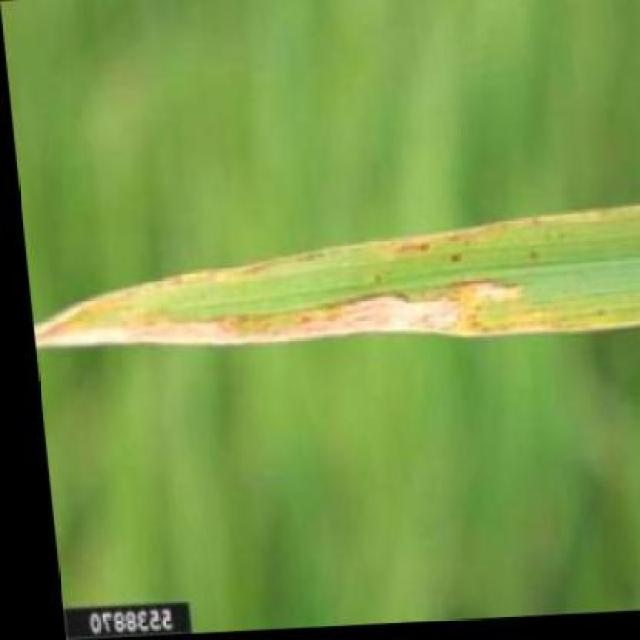Brown_Spot: (17, 200, 640, 366)
